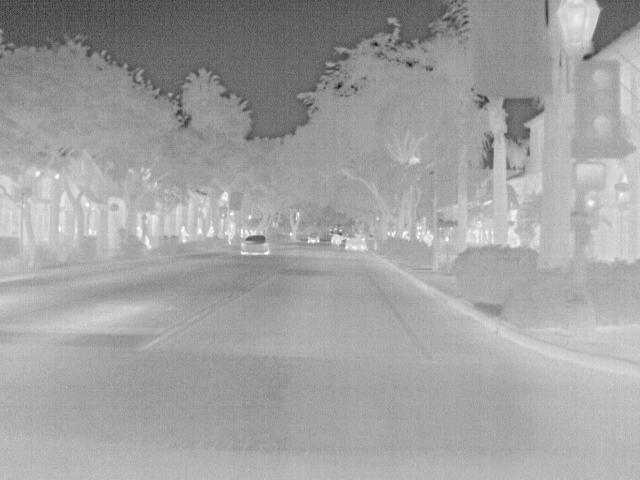car: (240, 232, 270, 257), (345, 236, 368, 252), (330, 228, 346, 246), (306, 230, 323, 244)
person: (506, 227, 522, 247), (177, 224, 192, 242), (420, 230, 435, 248)
